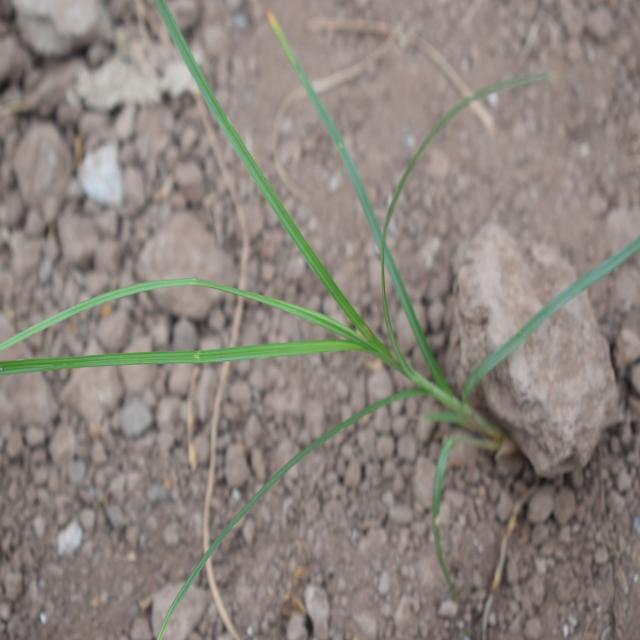sedge: (37, 62, 600, 550)
